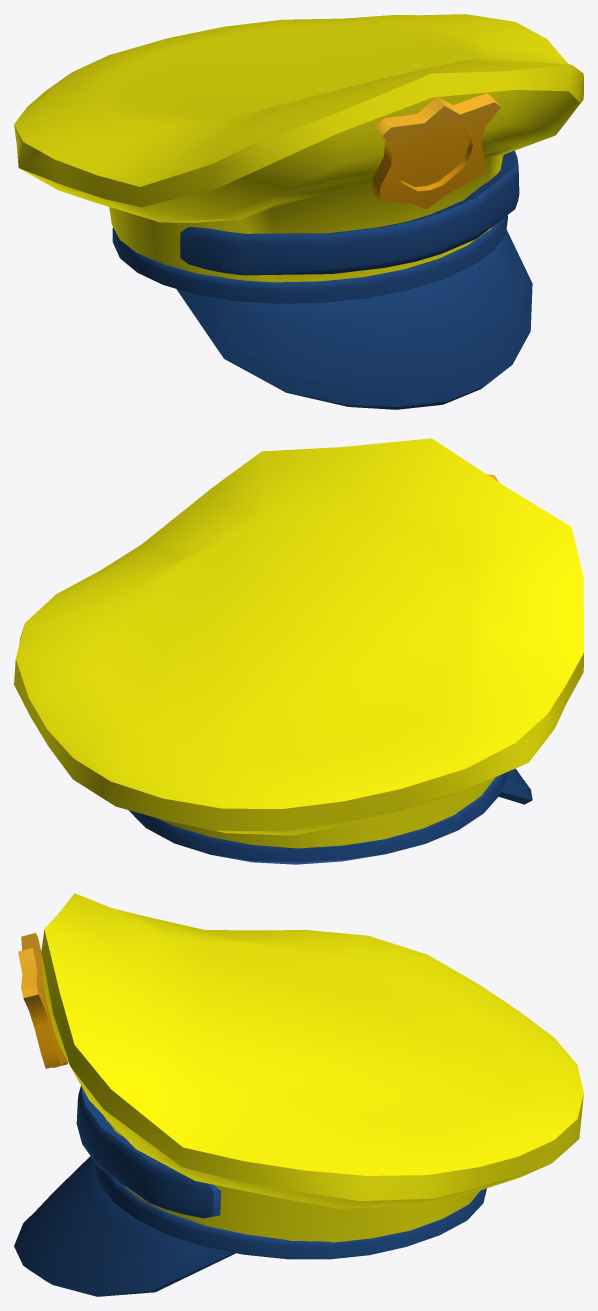
Rendered from Helmet_Cop.fbx.
3 views of the same model, one above another, from view 1: azimuth 30°, elevation 25°; view 2: azimuth 150°, elevation 25°; view 3: azimuth 270°, elevation 25° (orthographic).
Parts seen in each view (by area): view 1: Helmet_Cop; view 2: Helmet_Cop; view 3: Helmet_Cop.
Boxes of the visible parts, <box> form: Helmet_Cop: <box>14,14,583,409</box>; Helmet_Cop: <box>14,438,583,864</box>; Helmet_Cop: <box>14,893,583,1296</box>.
Bounding box in the file's own units: 592 × 358 × 573.
Materials: 2 (1 with a texture image).
